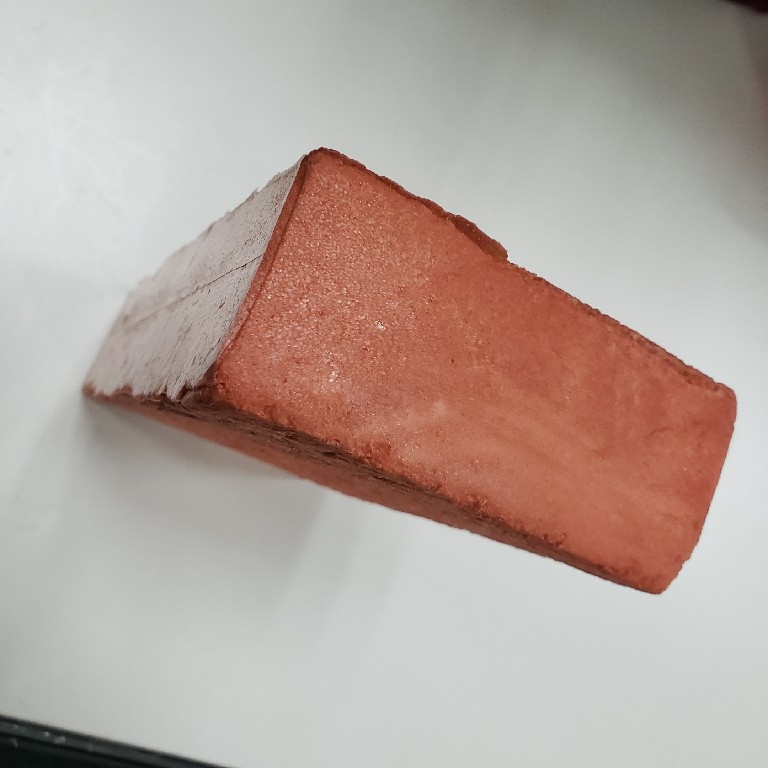brick: (77, 141, 745, 602)
